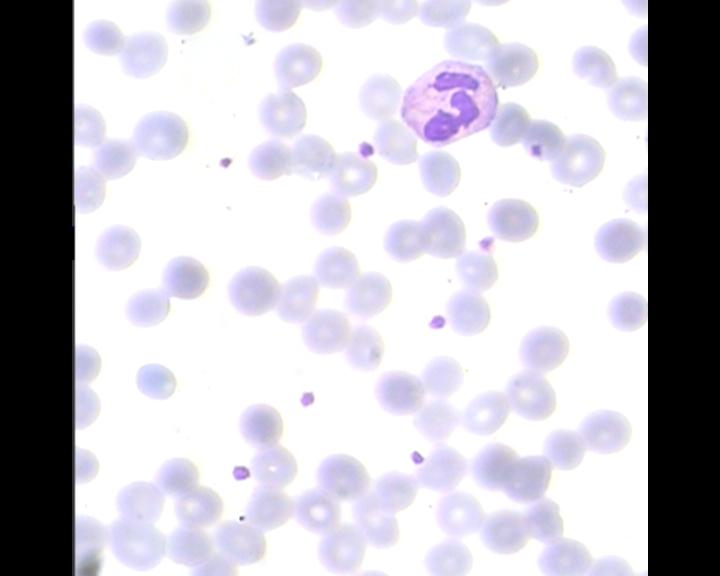neut: (395, 56, 499, 147)
